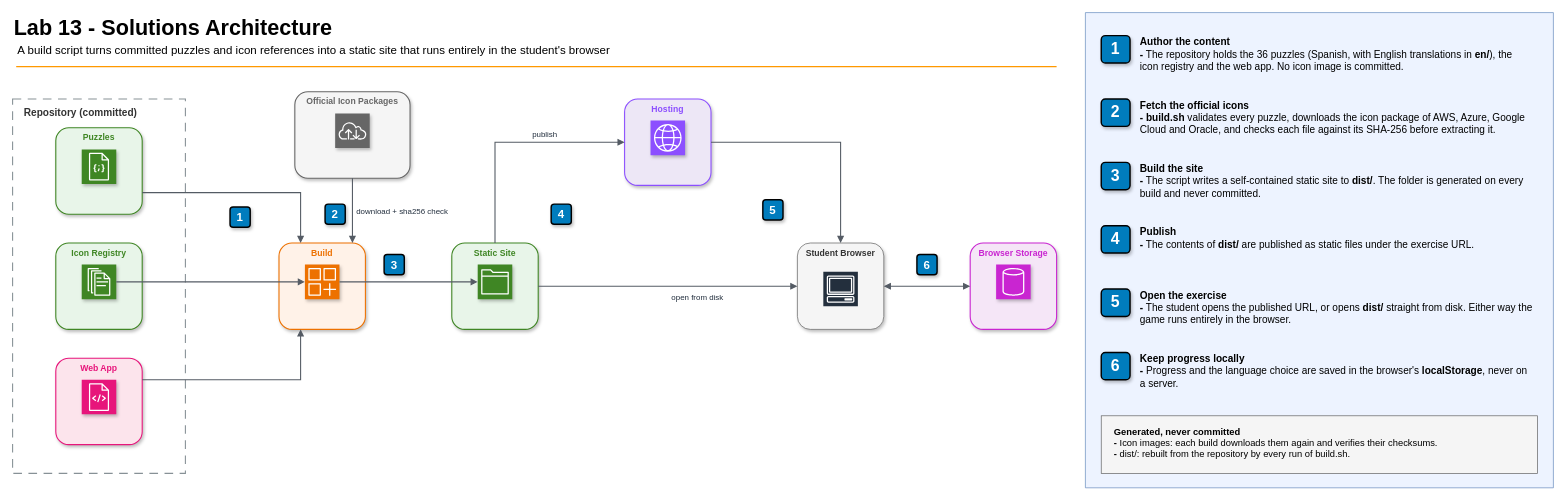
Some shapes in this 1567 by 500 pixel diagram are drawn without their labels. Here are the shapes that lost their labels. From the top down, the centre of each, then its label:
the point at 353,131: AWS, Azure, Google Cloud, Oracle
the point at 668,138: Published URL
the point at 99,167: puzzles/*.json 36 puzzles, ES + en/
the point at 99,282: icons/registry.json icons/packages.tsv
the point at 322,282: build.sh validate, fetch, build
the point at 495,282: dist/ not committed
the point at 1014,282: localStorage progress, language
the point at 99,397: app/ HTML, CSS, JS, i18n
